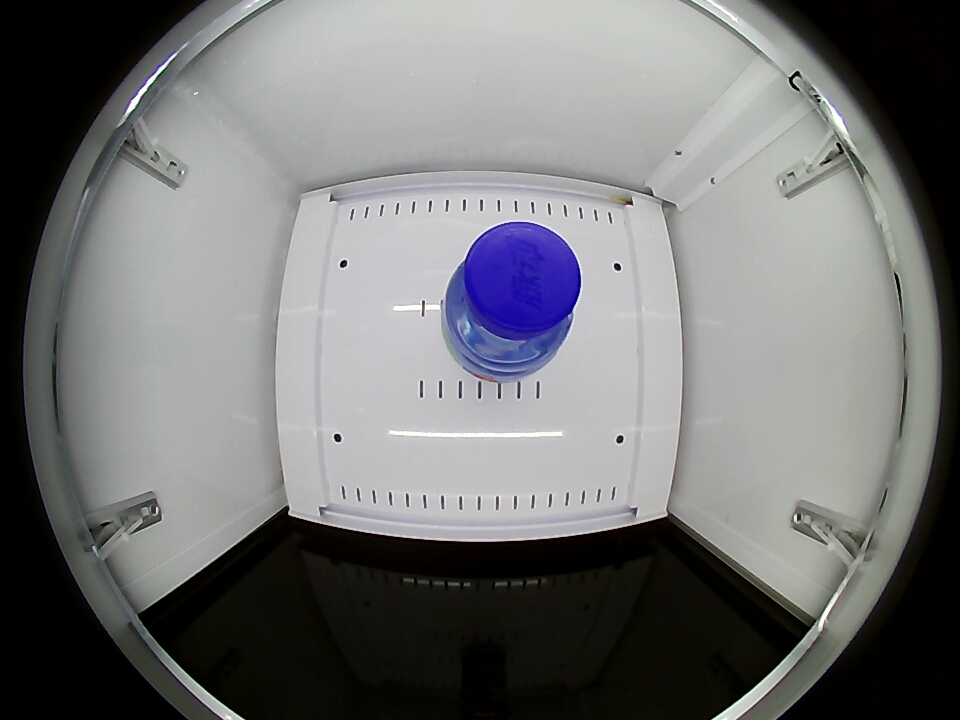maidong: (445, 221, 581, 372)
